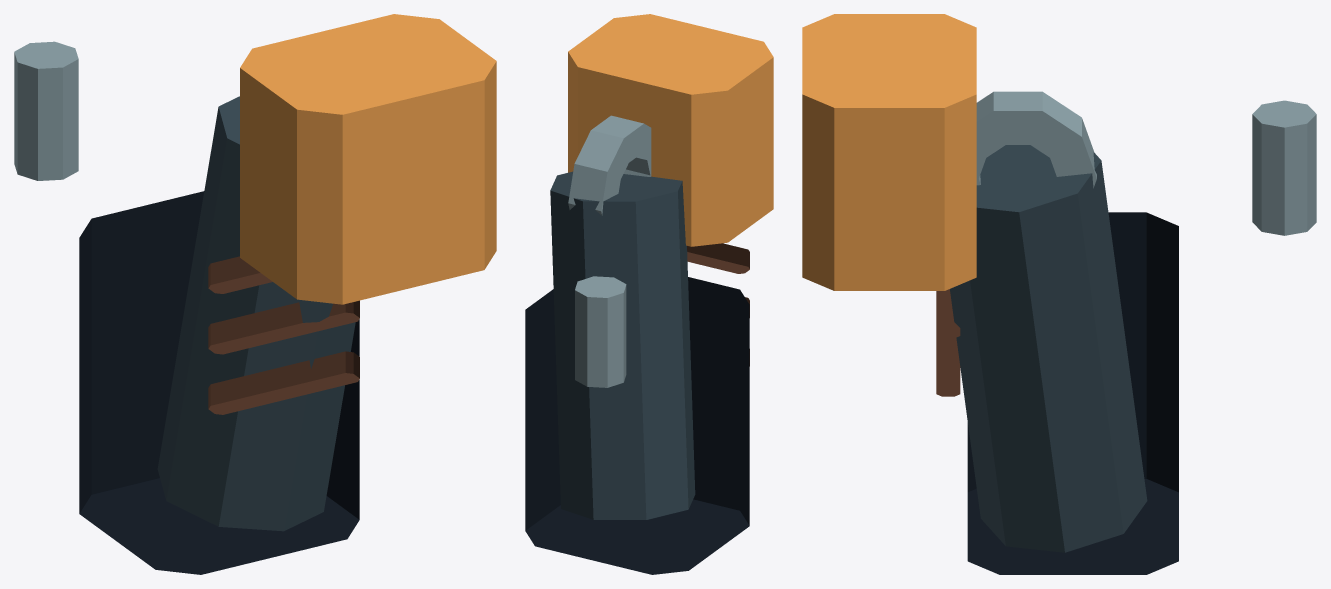
File: enemy_runner_shin_r.obj
3 renders of one model, left to right at view 1: azimuth 30°, elevation 25°; view 2: azimuth 150°, elevation 25°; view 3: azimuth 270°, elevation 25°, orthographic. The views are drawn at different scales.
Size of the model in its own units: 0.3097 by 0.59 by 0.56.
